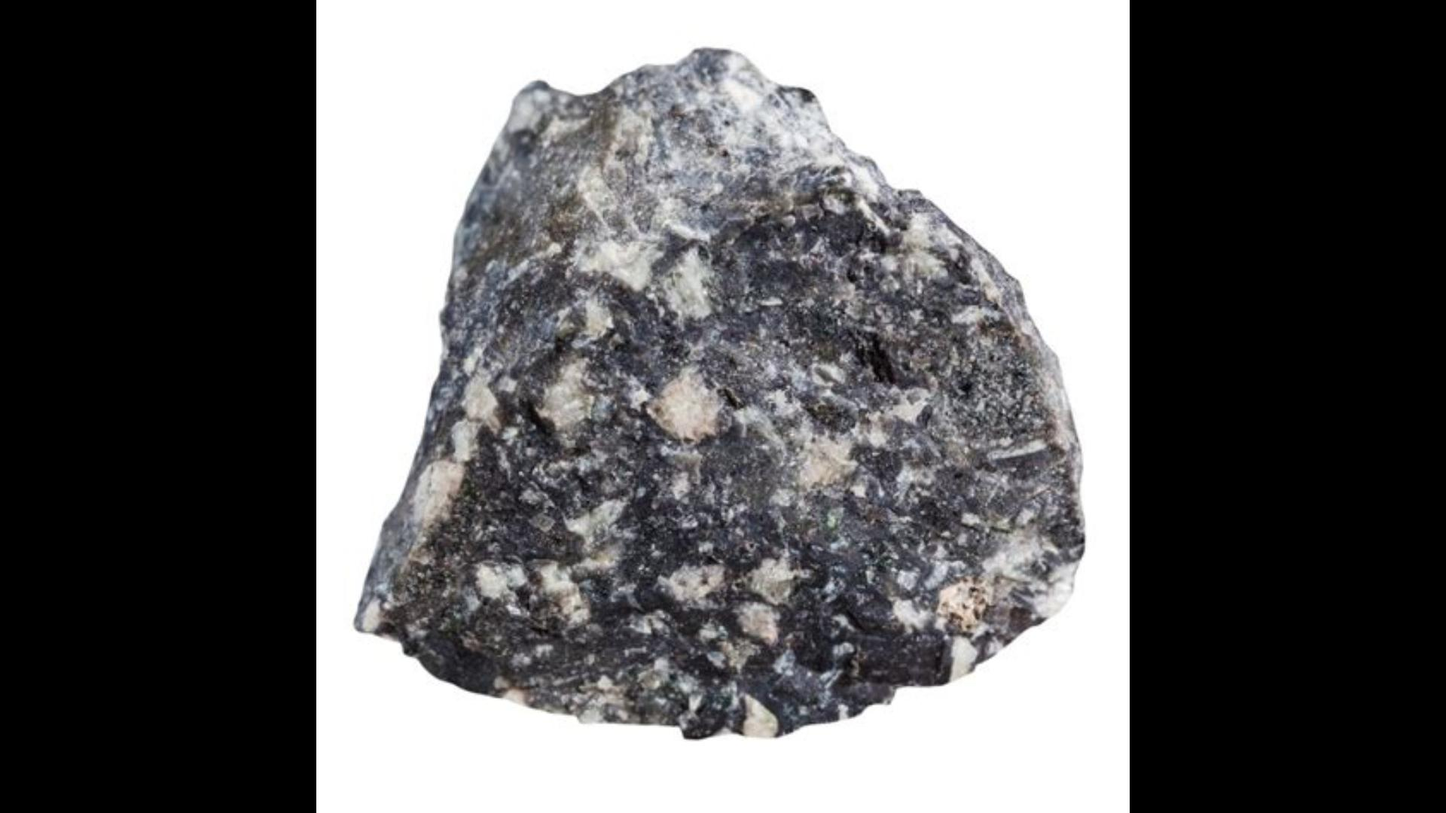rock: (359, 91, 1082, 736)
